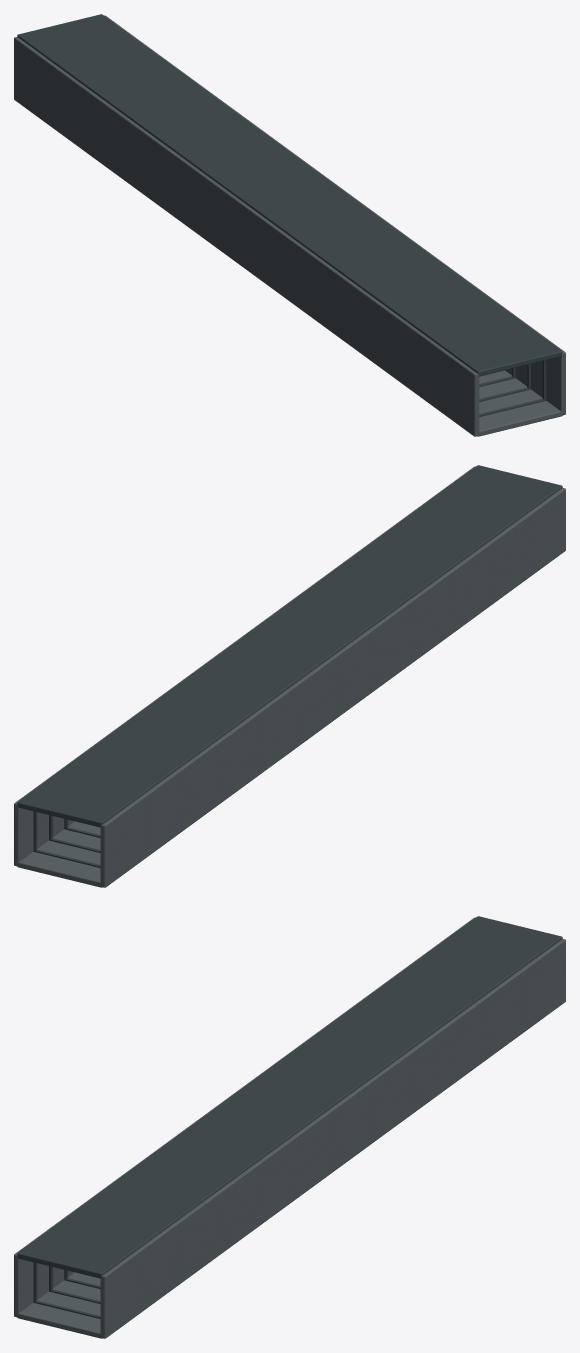
Rendered from ServiceConduit.fbx.
3 views of the same model, one above another, from view 1: azimuth 30°, elevation 25°; view 2: azimuth 150°, elevation 25°; view 3: azimuth 330°, elevation 25° (orthographic).
Parts seen in each view (by area): view 1: CinemaDark_Mesh, CinemaSteel_Mesh; view 2: CinemaDark_Mesh, CinemaSteel_Mesh; view 3: CinemaDark_Mesh, CinemaSteel_Mesh.
Part boxes in pixels (x1,y1,x2,y2): CinemaDark_Mesh: [17, 14, 562, 416]; CinemaSteel_Mesh: [14, 15, 565, 436]; CinemaDark_Mesh: [17, 465, 562, 867]; CinemaSteel_Mesh: [14, 466, 565, 887]; CinemaDark_Mesh: [17, 916, 562, 1318]; CinemaSteel_Mesh: [14, 917, 565, 1338].
Size of the model in its own units: 1.38 by 0.94 by 12.
